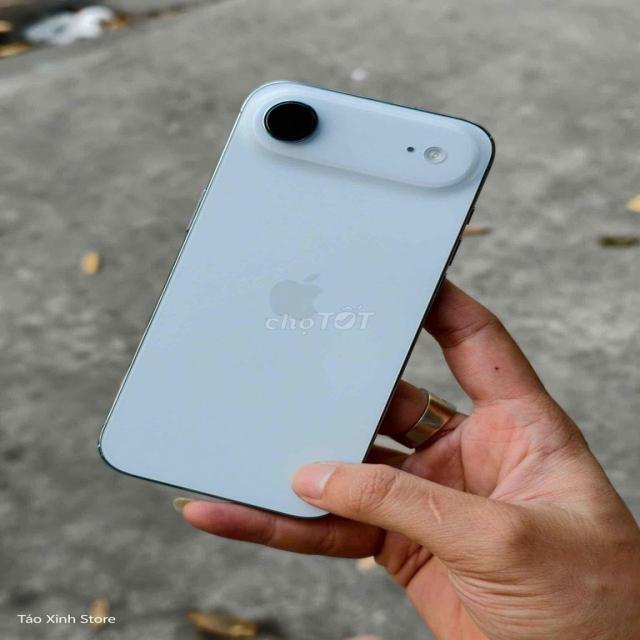gen_17: (97, 65, 513, 516)
